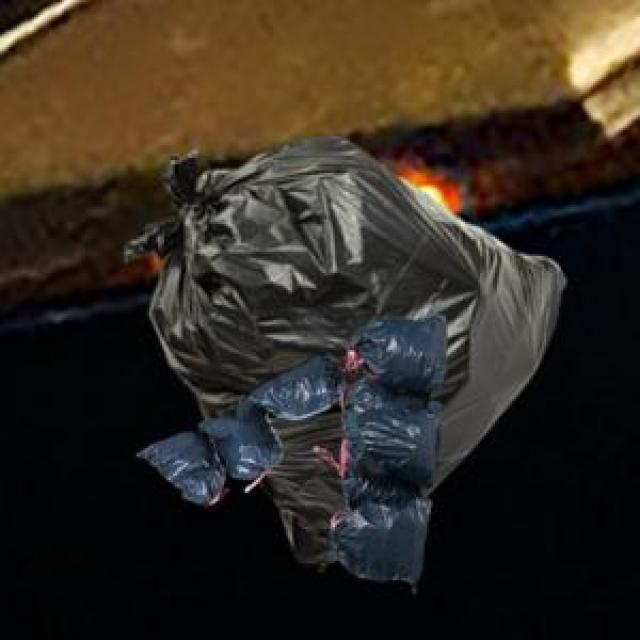Vinyl: (126, 138, 564, 584)
